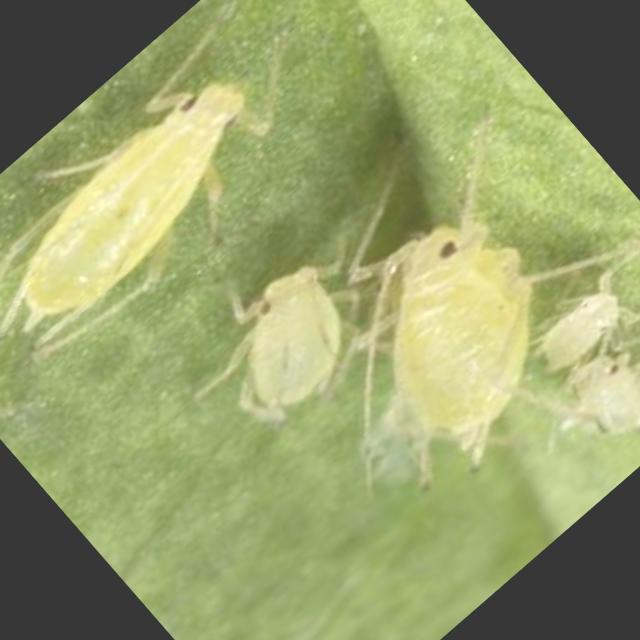Green peach aphid: (0, 0, 374, 417), (263, 140, 640, 521), (146, 225, 406, 484), (489, 213, 640, 405), (518, 298, 640, 496)
